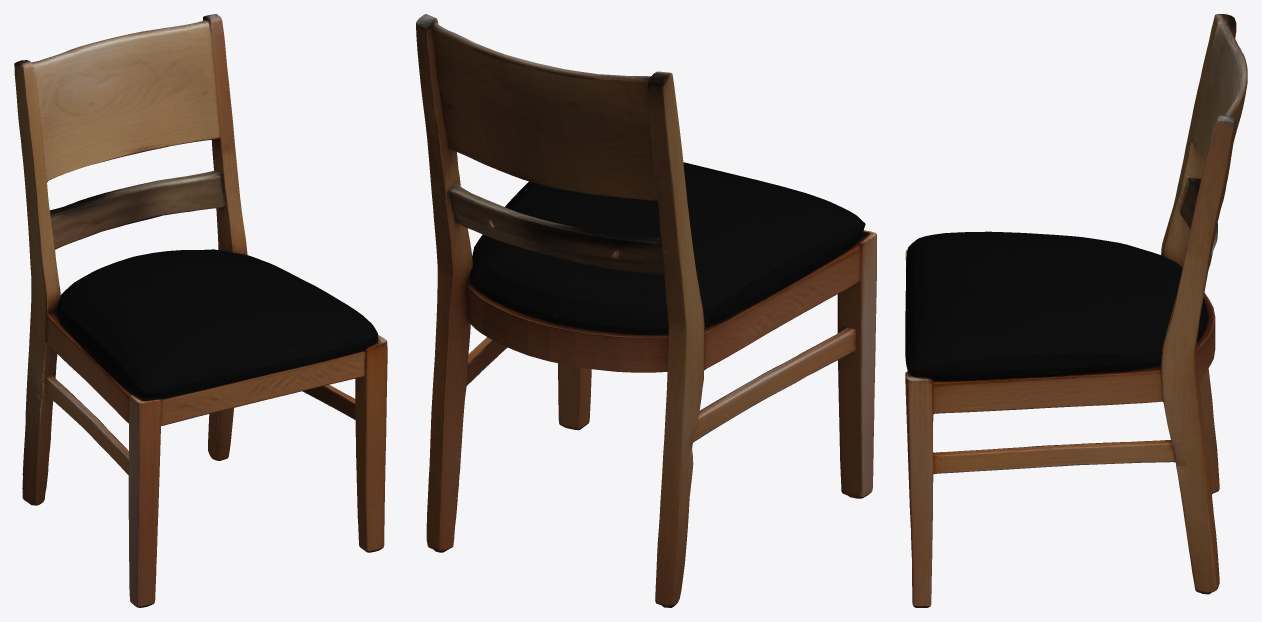
3 views of the same model, side by side, from view 1: azimuth 30°, elevation 25°; view 2: azimuth 150°, elevation 25°; view 3: azimuth 270°, elevation 25° (orthographic). The views are drawn at different scales.
Visible parts, largest first — view 1: world; view 2: world; view 3: world.
Boxes of the visible parts, box(x1,y1,x2,y2) form: world: box(14, 14, 387, 607); world: box(416, 14, 876, 607); world: box(905, 14, 1247, 607).
Size of the model in its own units: 0.5966 by 1 by 0.6503.
Materials: 1 (1 with a texture image).
